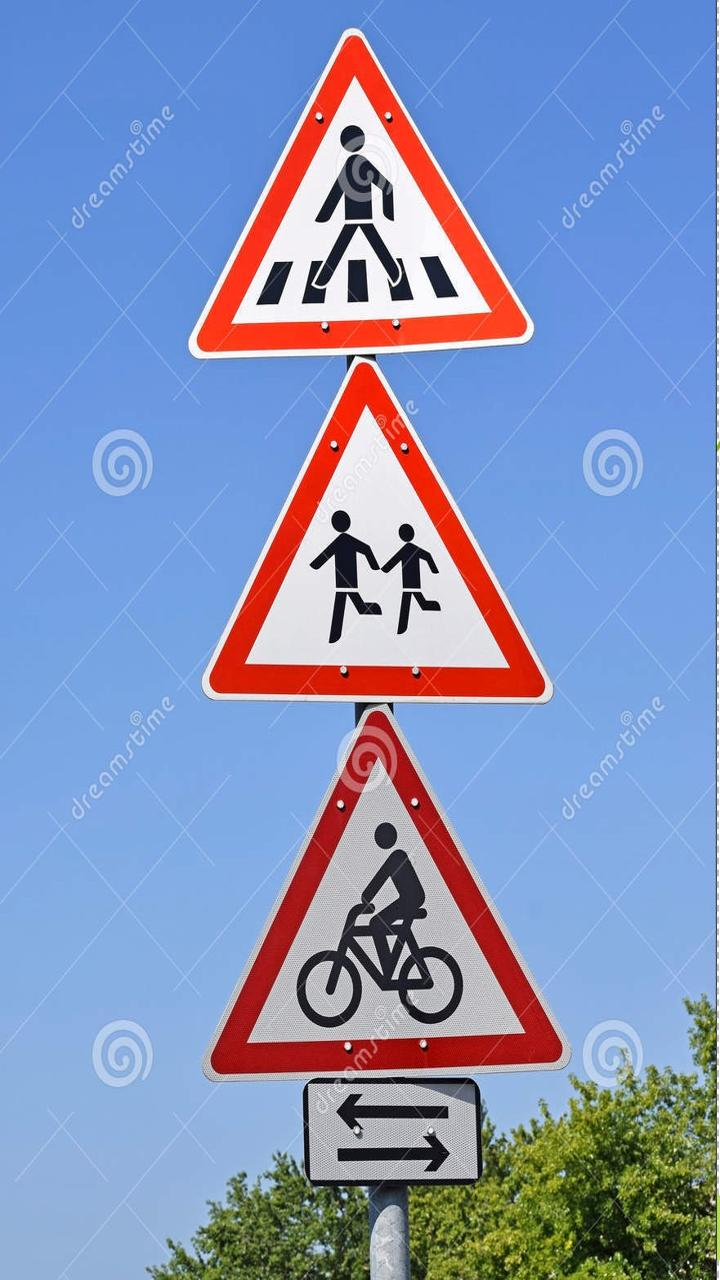Traffic sign: (188, 708, 614, 1076), (171, 360, 587, 711), (174, 36, 538, 373), (278, 1080, 512, 1195)
